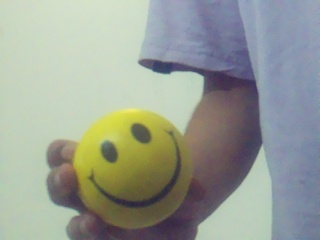ball: (73, 109, 191, 228)
